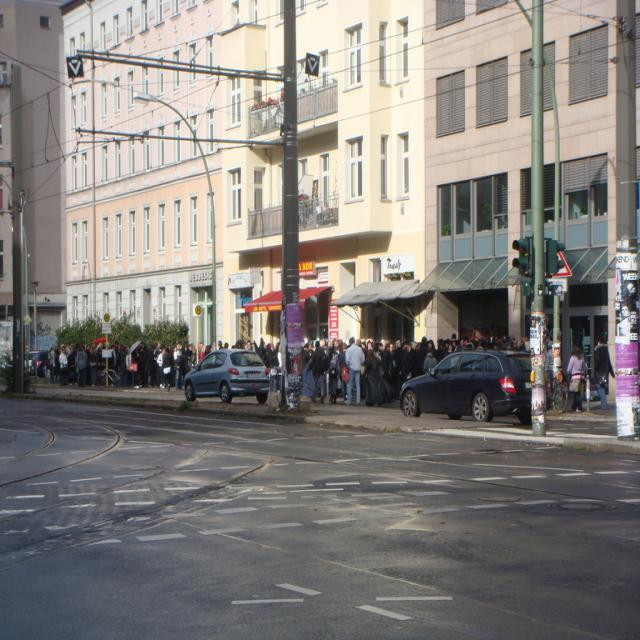off traffic light: (546, 236, 568, 273)
traffic light: (511, 236, 531, 279)
